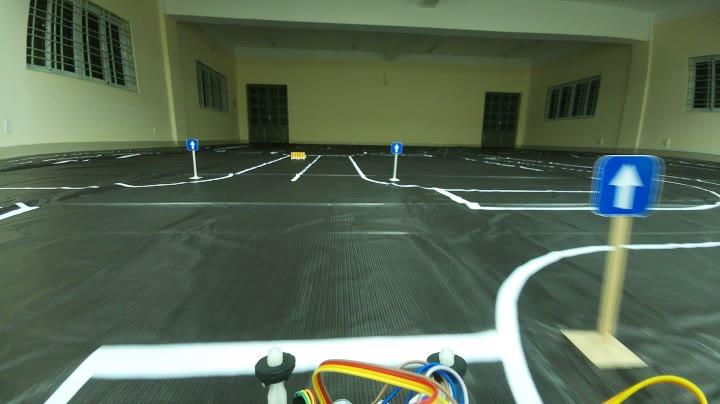onewayroad: (591, 149, 656, 218), (184, 136, 200, 148), (391, 142, 403, 154)
roadblock: (290, 148, 309, 158)
